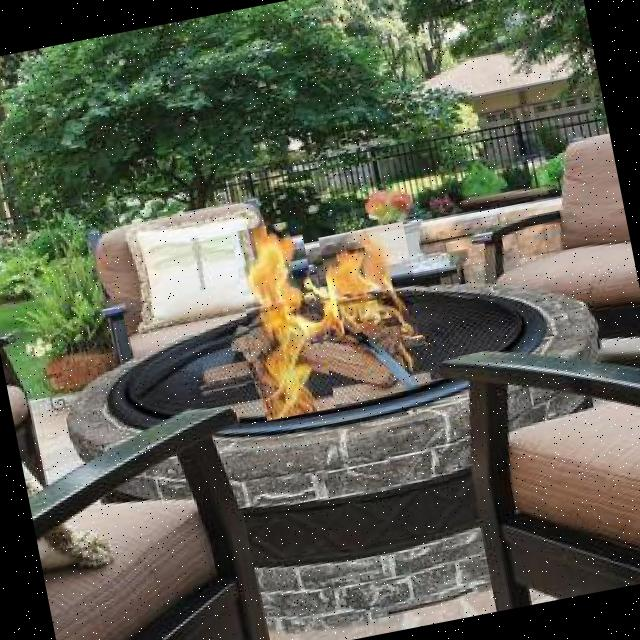fire: (231, 219, 336, 421), (318, 221, 422, 337)
